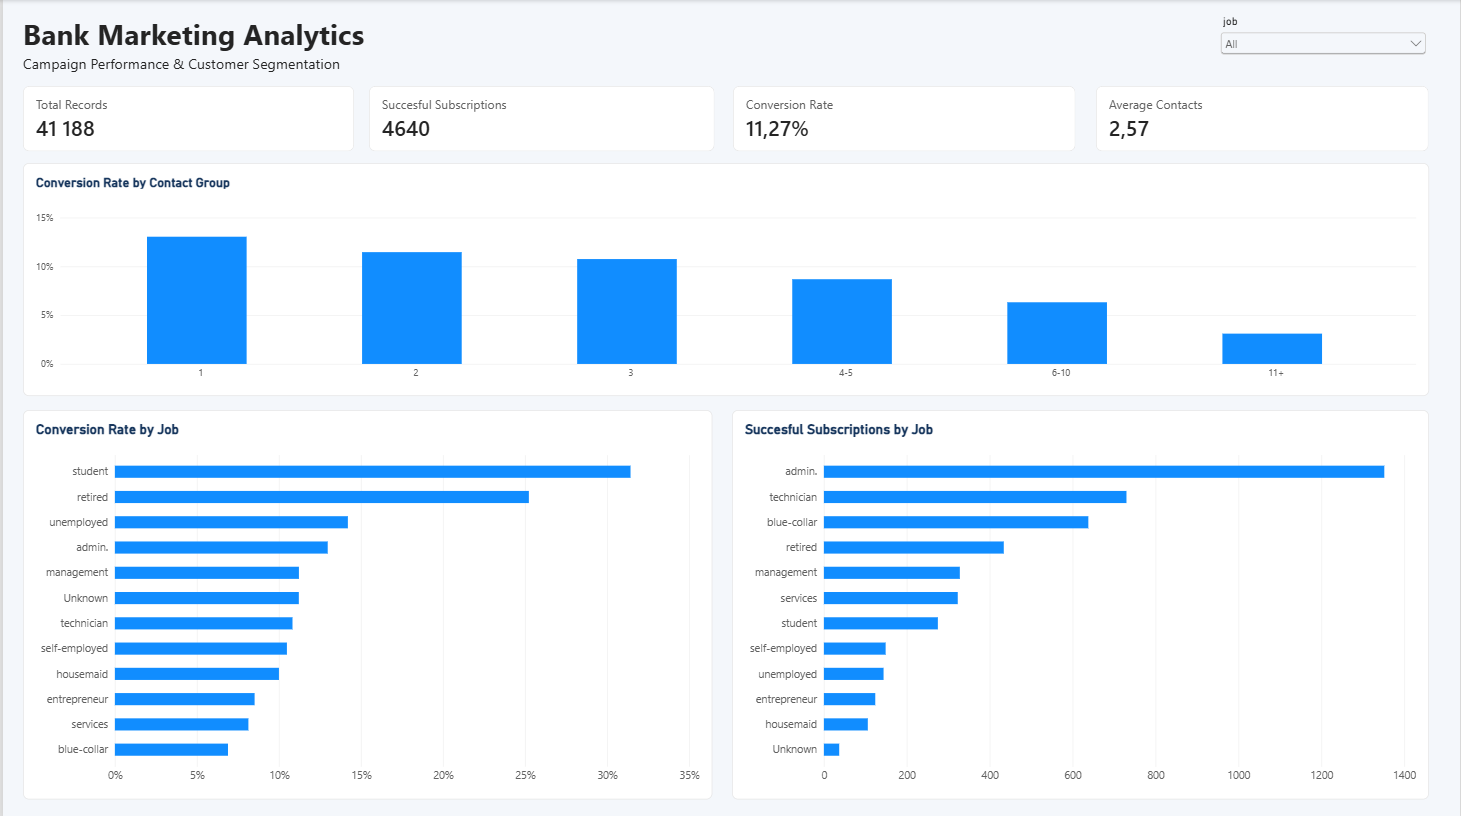

This screenshot's page, from the dashboard's own definition file:
{"tool":"powerbi","page":{"name":"Campaign Overview","canvas":[1920,1080],"ordinal":0},"visuals":[{"type":"cardVisual","fields":{"Data":["BankCampaigns.Total Records"]},"box":[26.7,113.3,436.7,86.7],"z":0},{"type":"cardVisual","fields":{"Data":["BankCampaigns.Conversion Rate"]},"box":[961.7,113.3,451.7,86.7],"z":1000},{"type":"cardVisual","fields":{"Data":["BankCampaigns.Average Contacts"]},"box":[1440,113.3,438.3,86.7],"z":2000},{"type":"cardVisual","fields":{"Data":["BankCampaigns.Succesful Subscription"]},"box":[481.7,113.3,455,86.7],"z":3000},{"type":"clusteredColumnChart","title":"Conversion Rate by Contact Group","fields":{"Y":["BankCampaigns.Conversion Rate"],"Category":["BankCampaigns.Contact group"]},"box":[26.7,215,1851.7,306.7],"z":4000},{"type":"clusteredBarChart","title":"Conversion Rate by Job","fields":{"Category":["BankCampaigns.job"],"Y":["BankCampaigns.Conversion Rate"]},"box":[26.7,540,908.3,513.3],"z":5000},{"type":"clusteredBarChart","title":"Succesful Subscriptions by Job","fields":{"Category":["BankCampaigns.job"],"Y":["BankCampaigns.Succesful Subscription"]},"box":[960,540,918.3,513.3],"z":6000},{"type":"textbox","box":[26.7,20,470,63.3],"z":7000},{"type":"textbox","box":[26.7,71.7,480,48.3],"z":8000},{"type":"slicer","fields":{"Values":["BankCampaigns.job"]},"box":[1598.3,20,280,63.3],"z":9000}]}

Visuals, with their boxes in screenshot pixels (x1, y1, x2, y2), scaled from the page's 1920x1080 canvas onto the 1461x816 screenshot:
cardVisual - BankCampaigns.Total Records: x1=20, y1=86, x2=353, y2=151
cardVisual - BankCampaigns.Conversion Rate: x1=732, y1=86, x2=1076, y2=151
cardVisual - BankCampaigns.Average Contacts: x1=1096, y1=86, x2=1429, y2=151
cardVisual - BankCampaigns.Succesful Subscription: x1=367, y1=86, x2=713, y2=151
"Conversion Rate by Contact Group" clusteredColumnChart: x1=20, y1=162, x2=1429, y2=394
"Conversion Rate by Job" clusteredBarChart: x1=20, y1=408, x2=711, y2=796
"Succesful Subscriptions by Job" clusteredBarChart: x1=730, y1=408, x2=1429, y2=796
textbox: x1=20, y1=15, x2=378, y2=63
textbox: x1=20, y1=54, x2=386, y2=91
slicer - BankCampaigns.job: x1=1216, y1=15, x2=1429, y2=63
